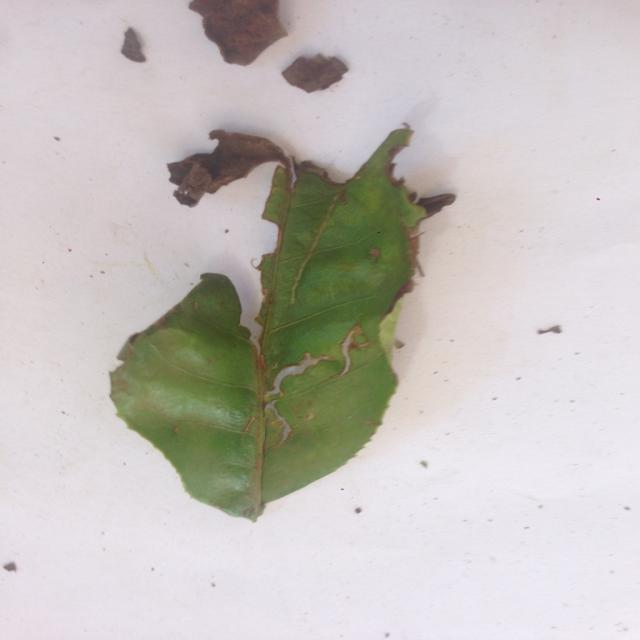Brown Blight: (118, 118, 522, 546)
